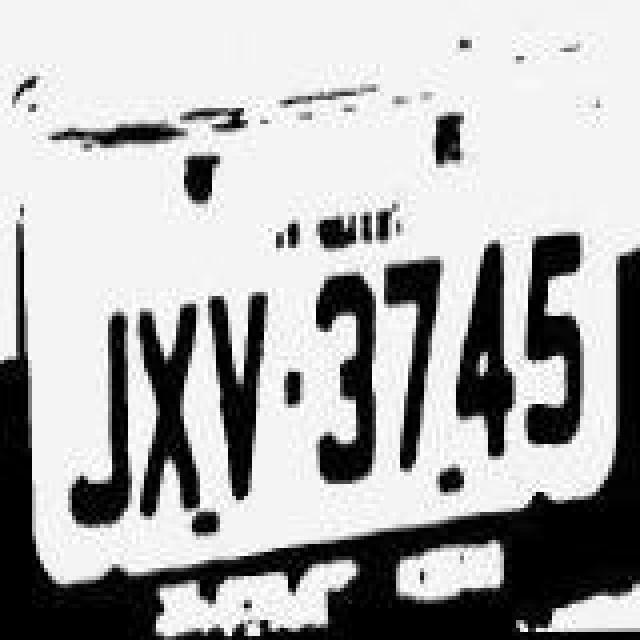3: (310, 260, 378, 500)
4: (450, 216, 518, 460)
5: (518, 216, 586, 460)
7: (378, 254, 446, 474)
J: (68, 286, 132, 526)
V: (206, 280, 274, 500)
X: (134, 290, 202, 514)
